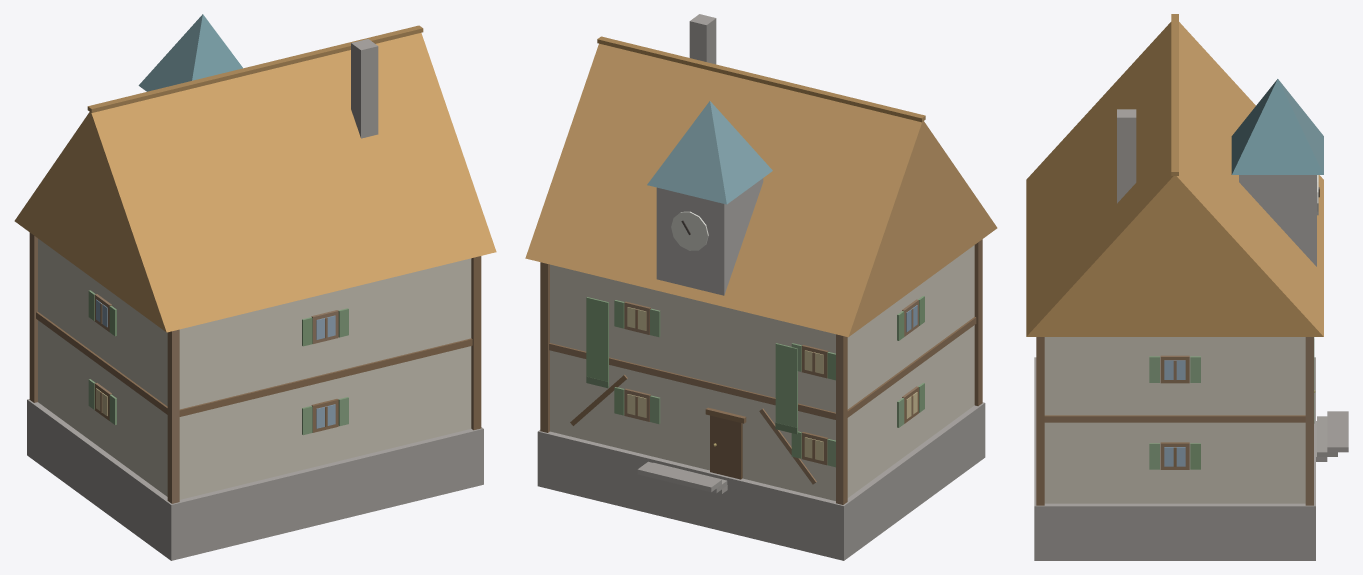
File: town_hall.glb
3 views of the same model, side by side, from view 1: azimuth 30°, elevation 25°; view 2: azimuth 150°, elevation 25°; view 3: azimuth 270°, elevation 25° (orthographic). The views are drawn at different scales.
Parts seen in each view (by area): view 1: town_hall2; view 2: town_hall2; view 3: town_hall2.
Part boxes in pixels (x1,y1,x2,y2): town_hall2: (14,14,496,560); town_hall2: (525,14,997,560); town_hall2: (1026,14,1348,560).
Bounding box in the file's own units: 10.55 × 12.87 × 9.1.
